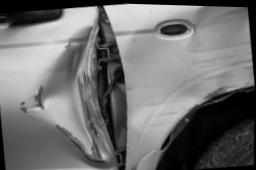Door: (0, 6, 128, 170)
Fender: (125, 4, 255, 170)
